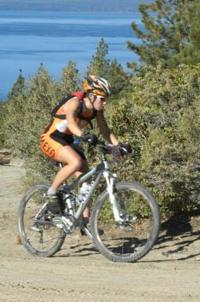person: (40, 77, 121, 239)
